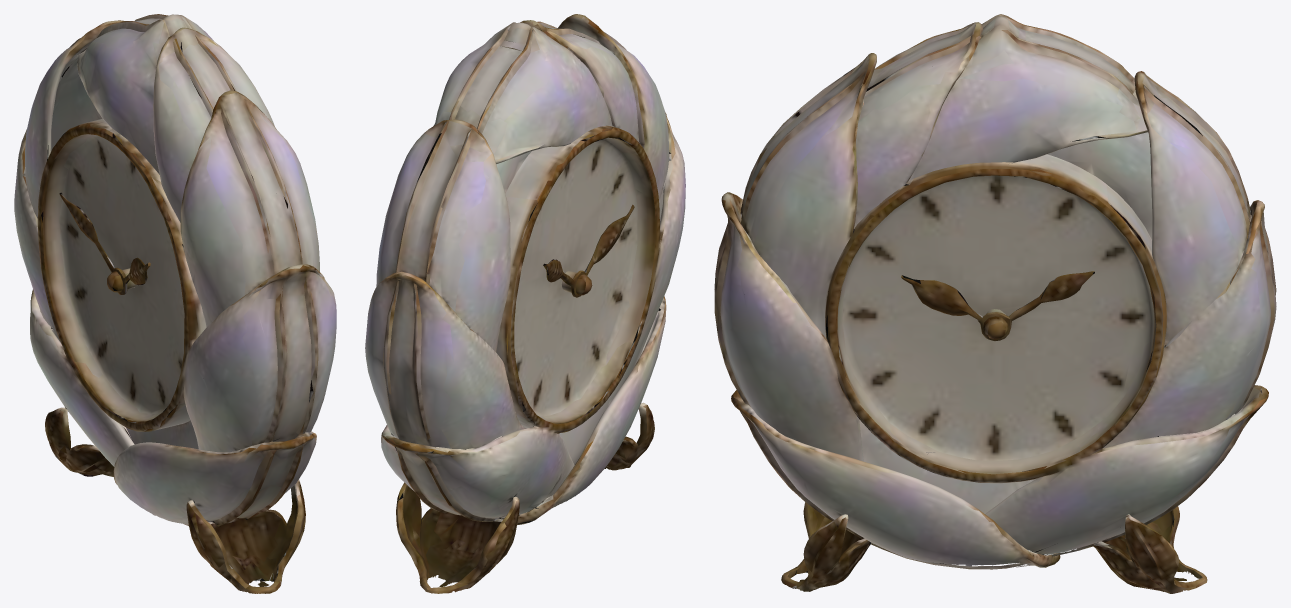
The model's file is ON-08_clock_game.glb.
3 renders of one model, left to right at view 1: azimuth 30°, elevation 25°; view 2: azimuth 150°, elevation 25°; view 3: azimuth 270°, elevation 25°, orthographic. The views are drawn at different scales.
Visible parts, largest first — view 1: ON-08_clock; view 2: ON-08_clock; view 3: ON-08_clock.
Part boxes in pixels (x1,y1,x2,y2): ON-08_clock: (14,14,336,593); ON-08_clock: (365,14,685,593); ON-08_clock: (714,14,1276,593).
Size of the model in its own units: 0.091 by 0.3201 by 0.2895.
Materials: 1 (1 with a texture image).
